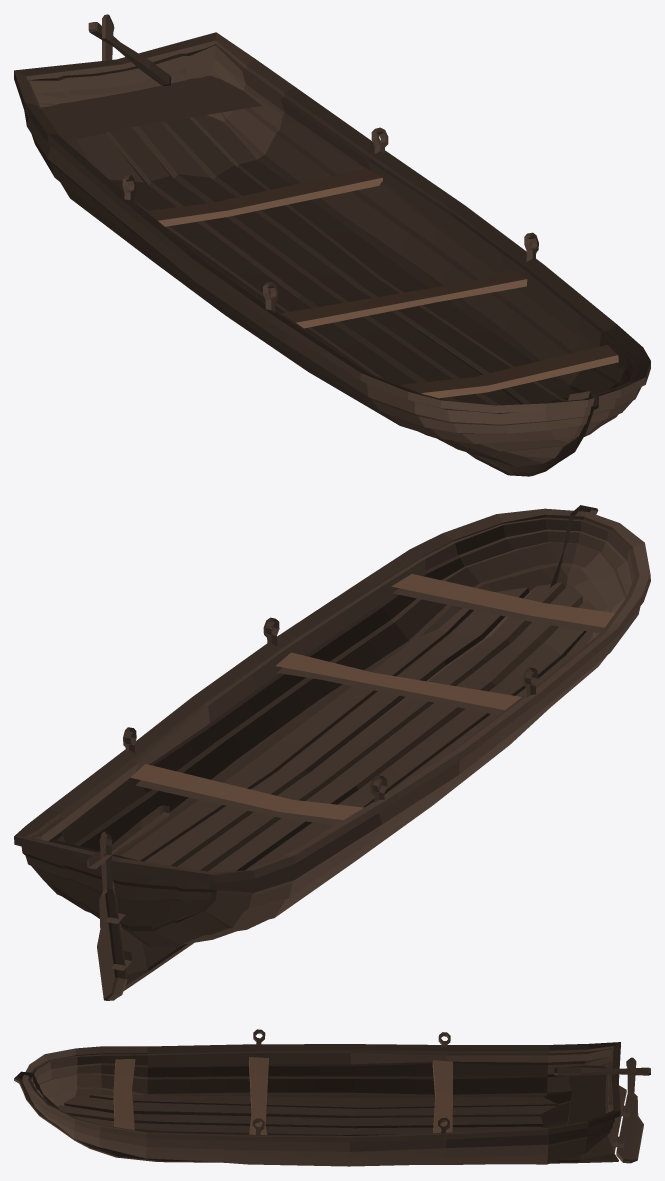
Rendered from boatEvt.obj.
The picture shows the model from 3 angles, top to bottom: view 1: azimuth 30°, elevation 25°; view 2: azimuth 150°, elevation 25°; view 3: azimuth 270°, elevation 25°; orthographic projection. The views are drawn at different scales.
Visible parts, largest first — view 1: Default; view 2: Default; view 3: Default.
Boxes of the visible parts, x1,y1,x2,y2 form: Default: (14,14,650,476); Default: (14,505,650,1000); Default: (14,1029,650,1166).
Bounding box in the file's own units: 34.15 × 20.25 × 109.
